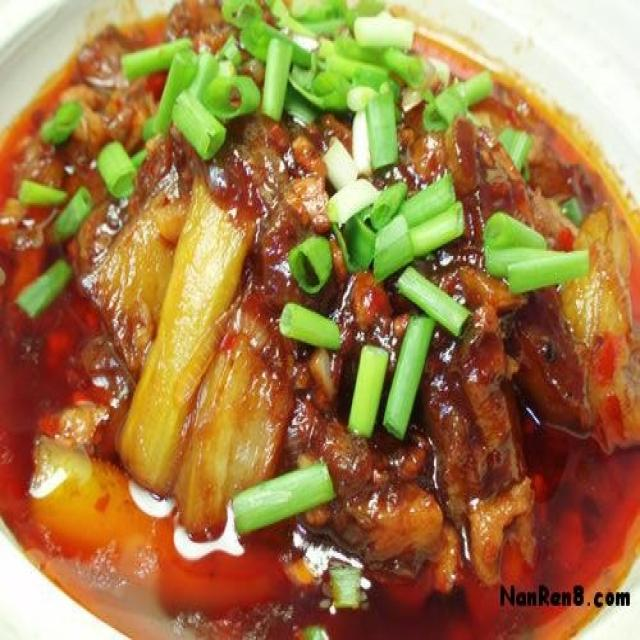豆腐料理: (12, 20, 627, 623)
